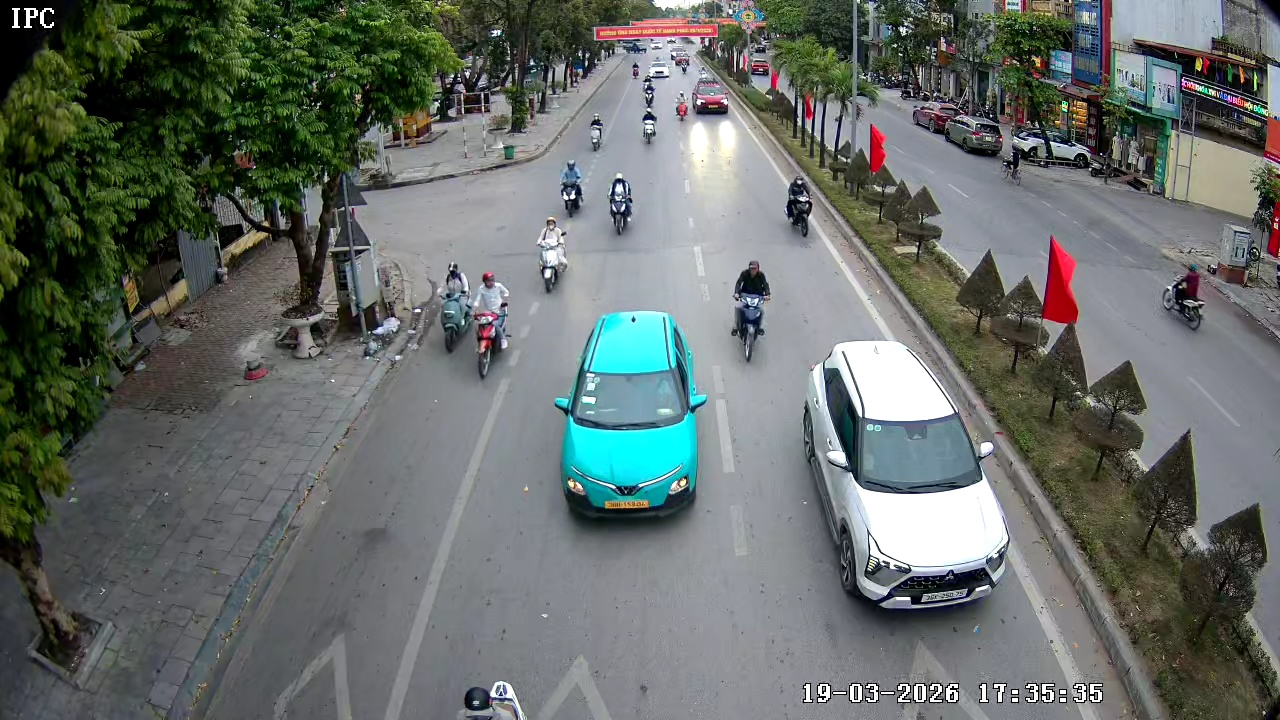car: (801, 339, 1009, 614), (555, 310, 709, 523), (691, 81, 734, 118)
motorbike: (468, 270, 512, 381), (728, 258, 772, 363), (436, 261, 473, 354), (1161, 259, 1207, 331), (535, 214, 570, 294), (783, 174, 816, 240), (607, 169, 635, 236), (558, 158, 586, 217), (641, 106, 659, 147), (588, 111, 603, 152), (674, 90, 691, 123), (643, 82, 659, 108)
